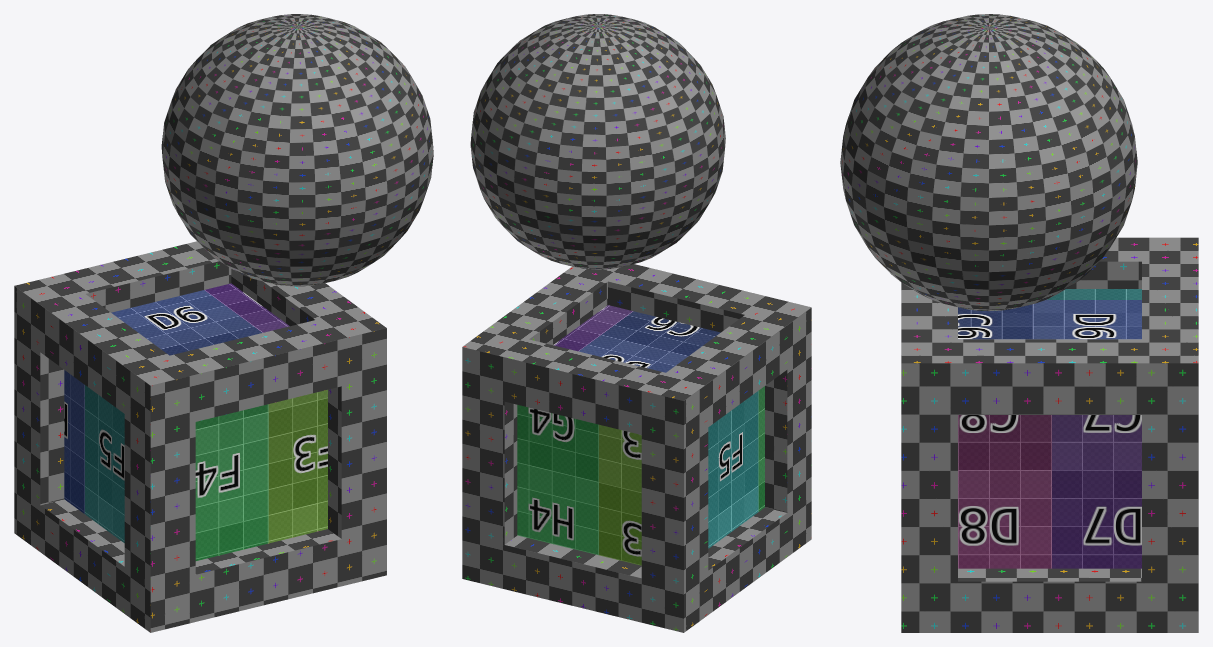
File: shapes.glb
3 views of the same model, side by side, from view 1: azimuth 30°, elevation 25°; view 2: azimuth 150°, elevation 25°; view 3: azimuth 270°, elevation 25° (orthographic). The views are drawn at different scales.
Parts seen in each view (by area): view 1: Cube, Sphere; view 2: Cube, Sphere; view 3: Cube, Sphere.
Part boxes in pixels (box(x1,y1,x2,y2)): Cube: box(14, 241, 386, 632); Sphere: box(161, 14, 433, 286); Cube: box(462, 264, 811, 632); Sphere: box(470, 14, 725, 269); Cube: box(901, 237, 1198, 632); Sphere: box(840, 14, 1137, 311).
Size of the model in its own units: 2.59 by 4.3 by 2.41.
Materials: 2 (2 with a texture image).
